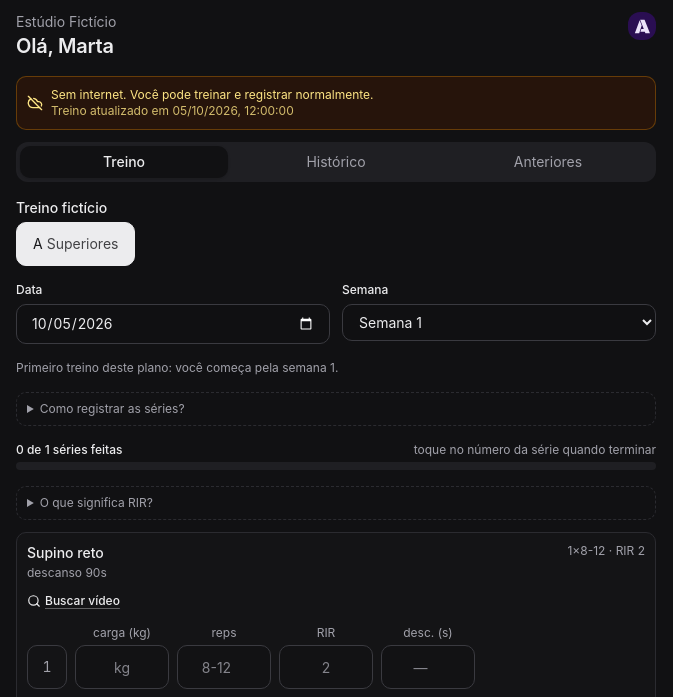
Scenario: semana do mesociclo depois de concluir (A08) › trocar para o Histórico e voltar mantém a semana, e a sessão seguinte vai para a semana 2
This screenshot has width=673, height=697.
Type "40" into the field named "Carga da série 1 de Supino reto" at (122, 667), box x1=75 y1=645 x2=169 y2=689
(page scrolled)
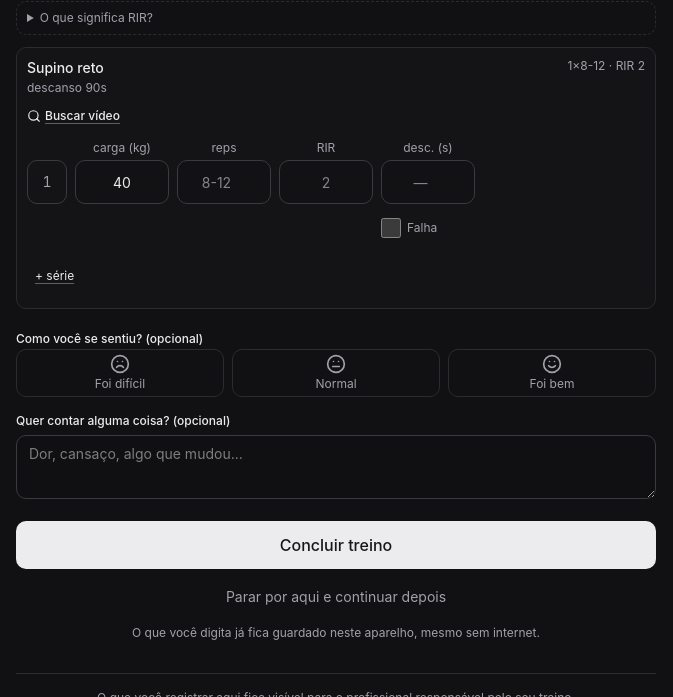
Click the button "Concluir treino" at (336, 545), box x1=16 y1=521 x2=656 y2=569
(page scrolled)
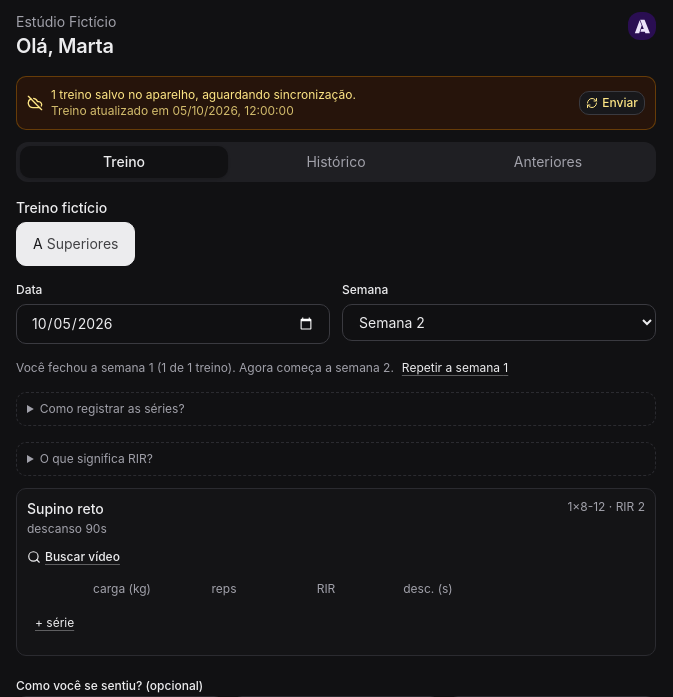
Click the button "Histórico" at (336, 162), box x1=232 y1=146 x2=440 y2=178
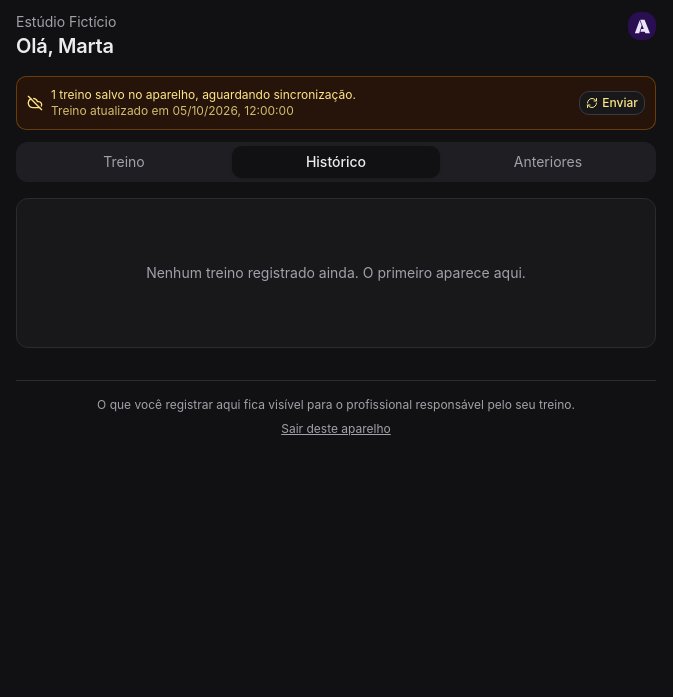
Expected: the text "Nenhum treino registrado ainda. O primeiro aparece aqui." is shown, x1=146 y1=264 x2=526 y2=281
Click the button "Treino" at (124, 162), box x1=20 y1=146 x2=228 y2=178
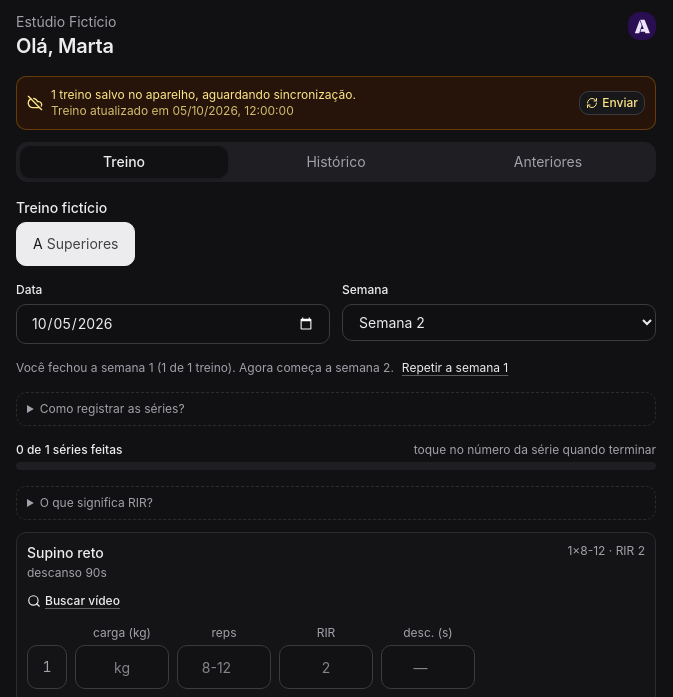
Expected: the field named "Carga da série 1 de Supino reto" is shown
Type "45" into the field named "Carga da série 1 de Supino reto" at (122, 667), box x1=75 y1=645 x2=169 y2=689
(page scrolled)
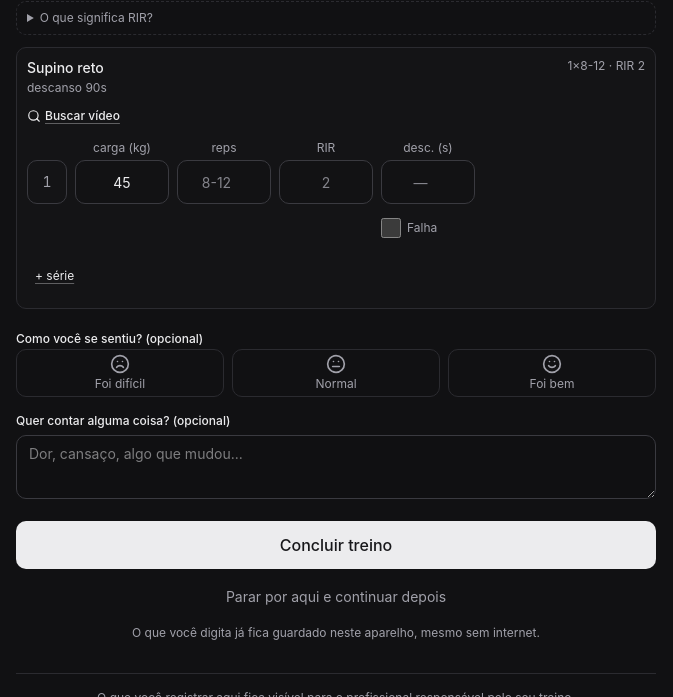
Click the button "Concluir treino" at (336, 545), box x1=16 y1=521 x2=656 y2=569
(page scrolled)
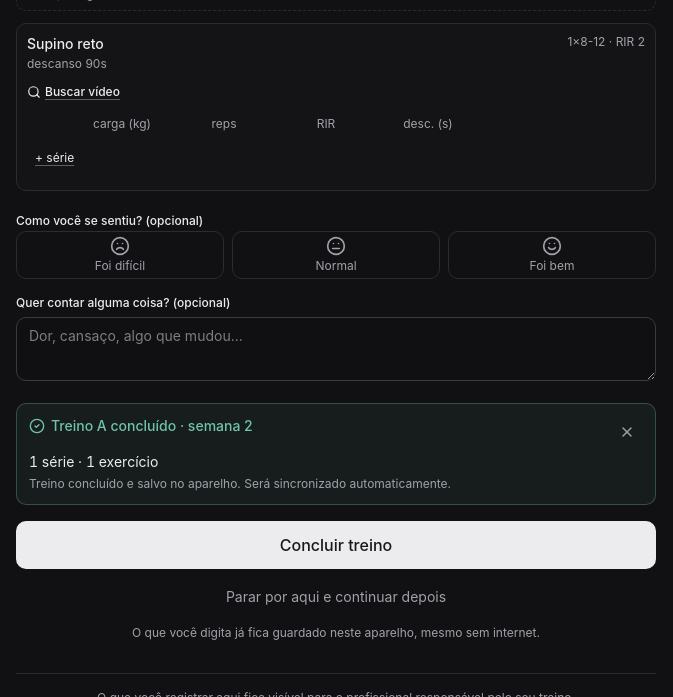
Expected: the text "Treino concluído e salvo no aparelho. Será sincronizado automaticamente." is shown, x1=29 y1=476 x2=451 y2=491
